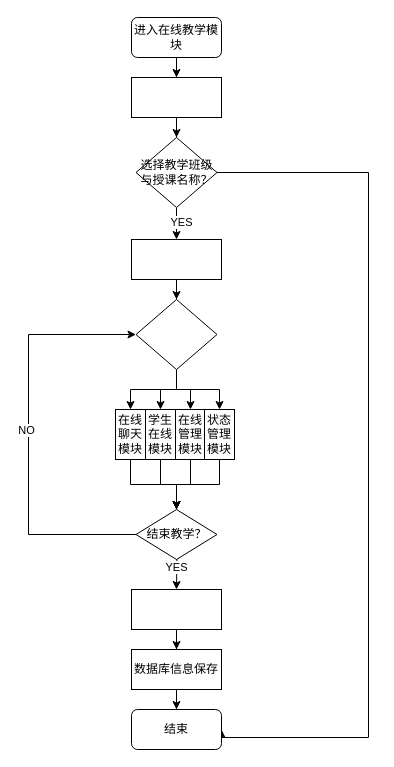
Some shapes in this 394 by 767 pixel diagram are drawn without their labels. The shapes that lost their labels are listed below. From the top down, each one's box as (x1, y1, x2, y2) in pixels, then its label:
(130, 76, 222, 118): 1. 进入准备阶段
(130, 238, 222, 280): 2.进入教学阶段
(135, 298, 217, 370): 选择授课模块
(130, 588, 222, 630): 3. 进入结束阶段
